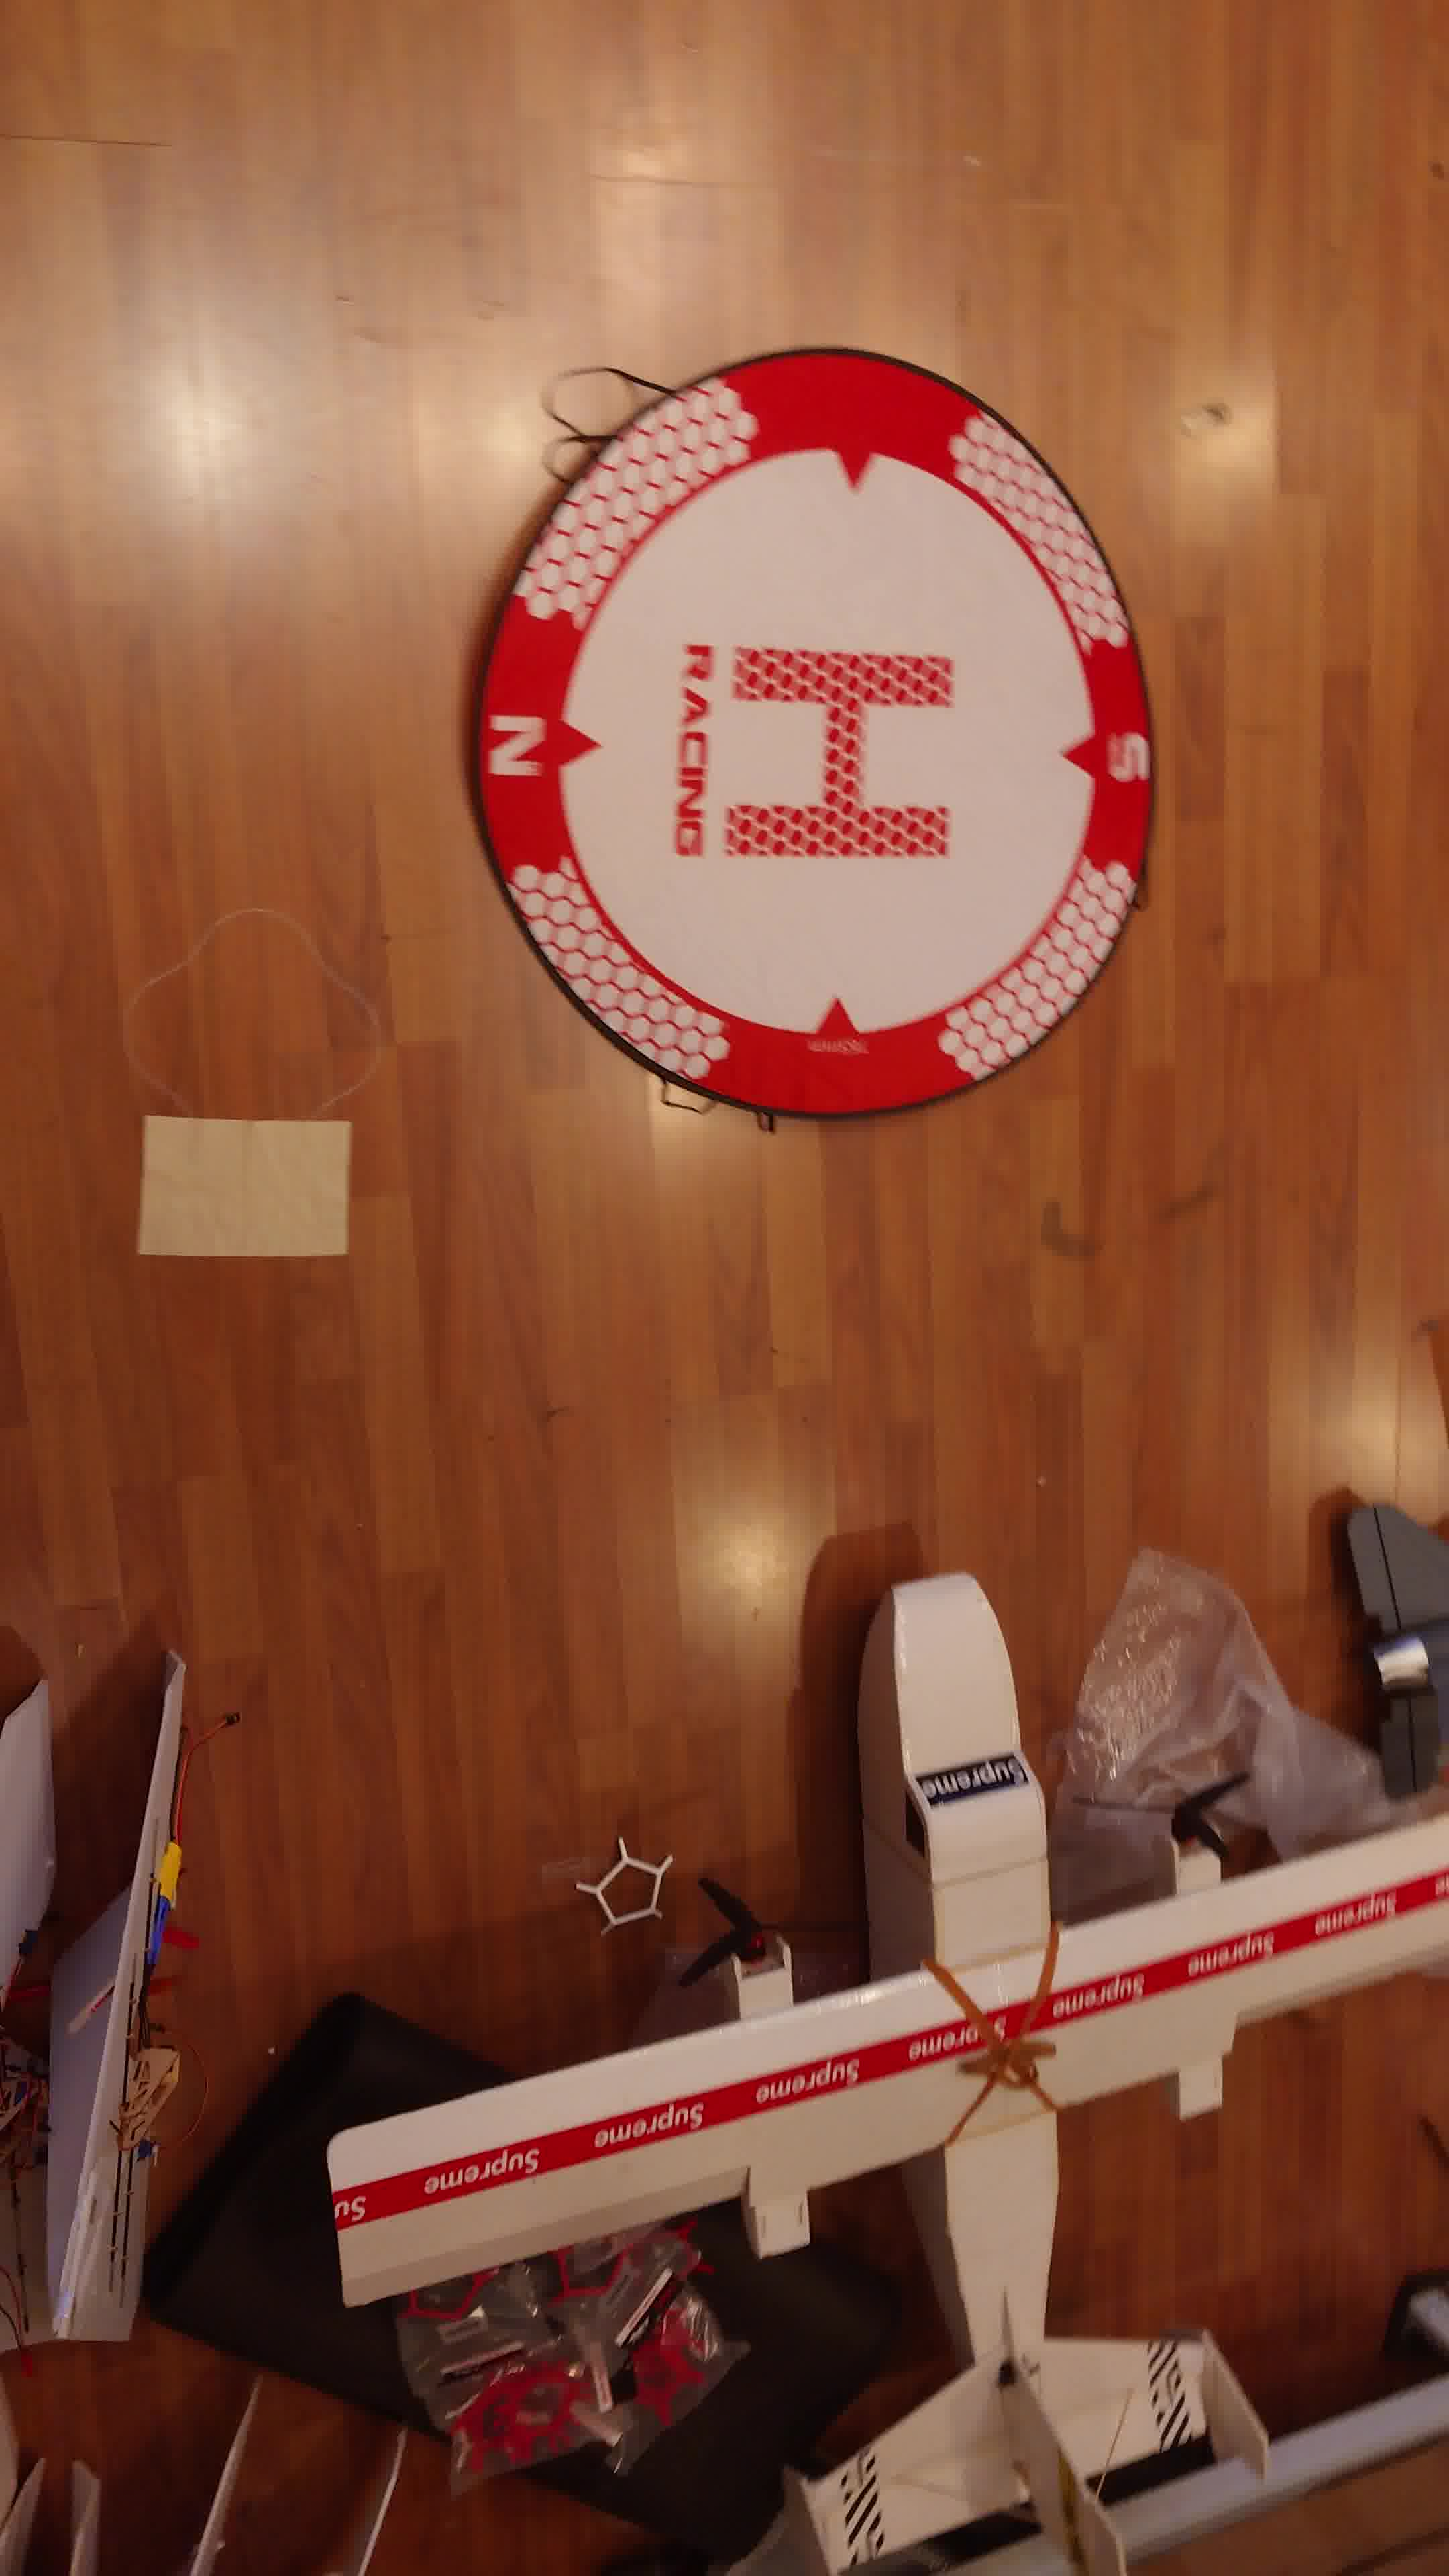H: (724, 646, 955, 860)
